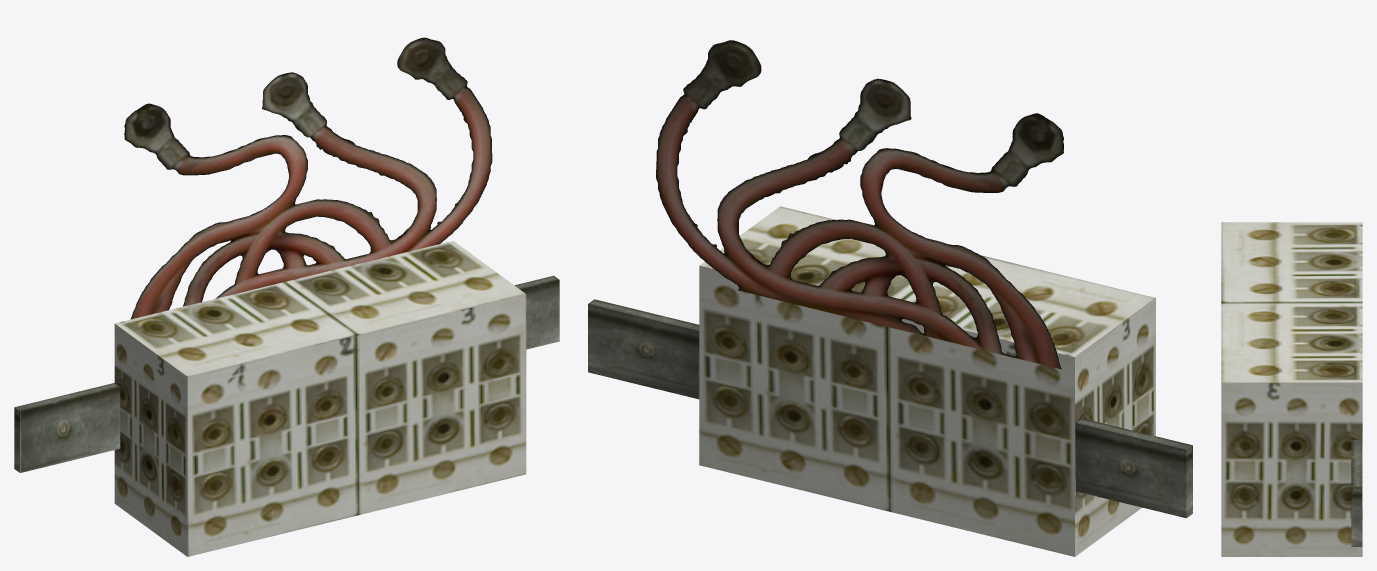
The model's file is FuseDetail.FBX.
3 renders of one model, left to right at view 1: azimuth 30°, elevation 25°; view 2: azimuth 150°, elevation 25°; view 3: azimuth 270°, elevation 25°, orthographic. The views are drawn at different scales.
Parts seen in each view (by area): view 1: FuseDetail; view 2: FuseDetail; view 3: FuseDetail.
Boxes of the visible parts, x1,y1,x2,y2 form: FuseDetail: (14, 37, 559, 556); FuseDetail: (588, 40, 1192, 556); FuseDetail: (1221, 222, 1362, 556).
Bounding box in the file's own units: 33.69 × 23.57 × 7.89.
